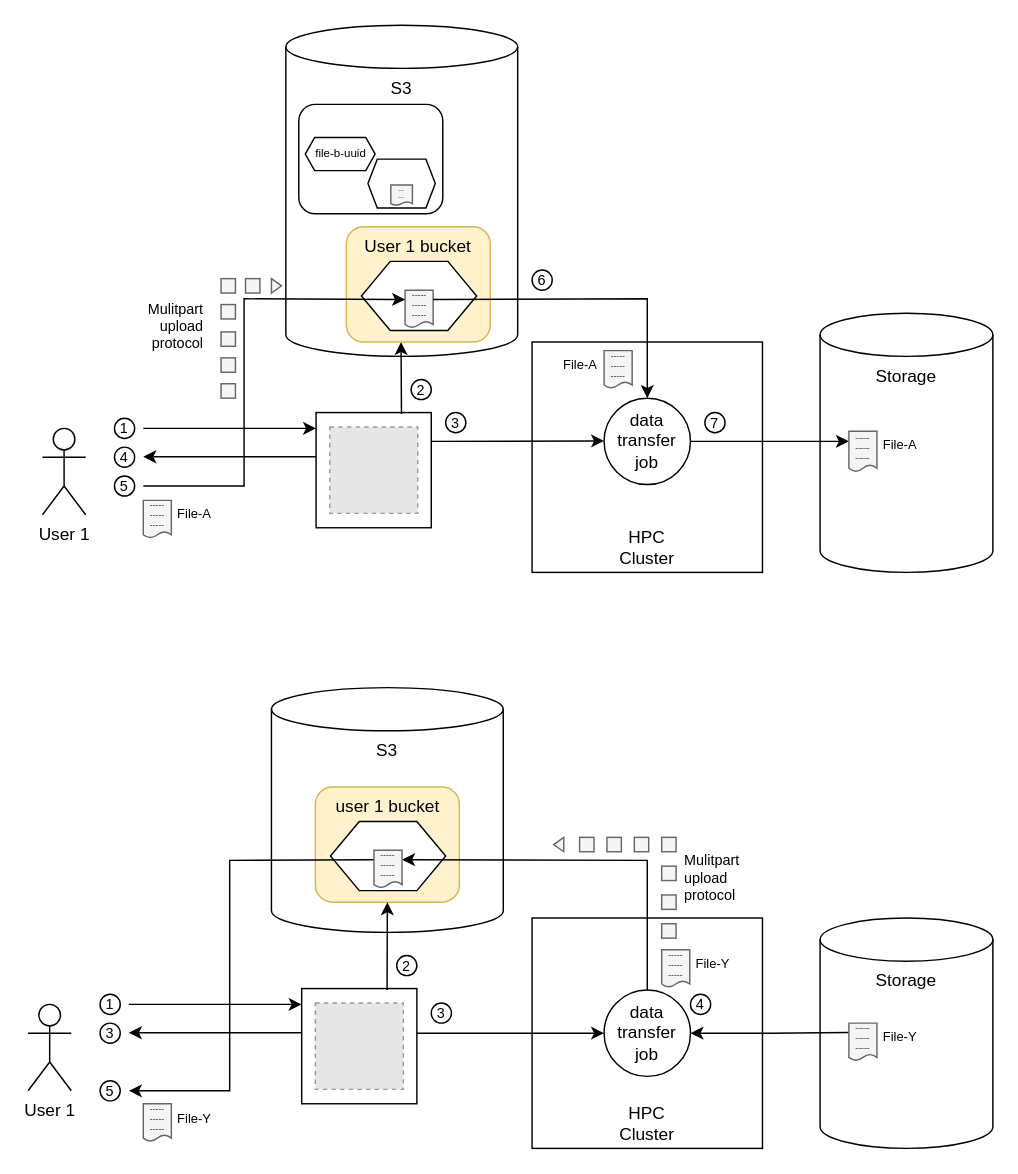
The diagram is 1018 pixels wide and 1174 high, and some of its shapes have lost their labels. Grey dashed boxes stand in for pictures. The shapes that lost their labels are listed below. From the top down, each one's box as (x1, y1, x2, y2) in pixels, then its label:
(297, 103, 443, 214): User 2 bucket
(366, 158, 435, 208): file-c-uuid
(360, 260, 477, 330): file-a-uuid
(329, 820, 446, 891): File-Y-uuid
